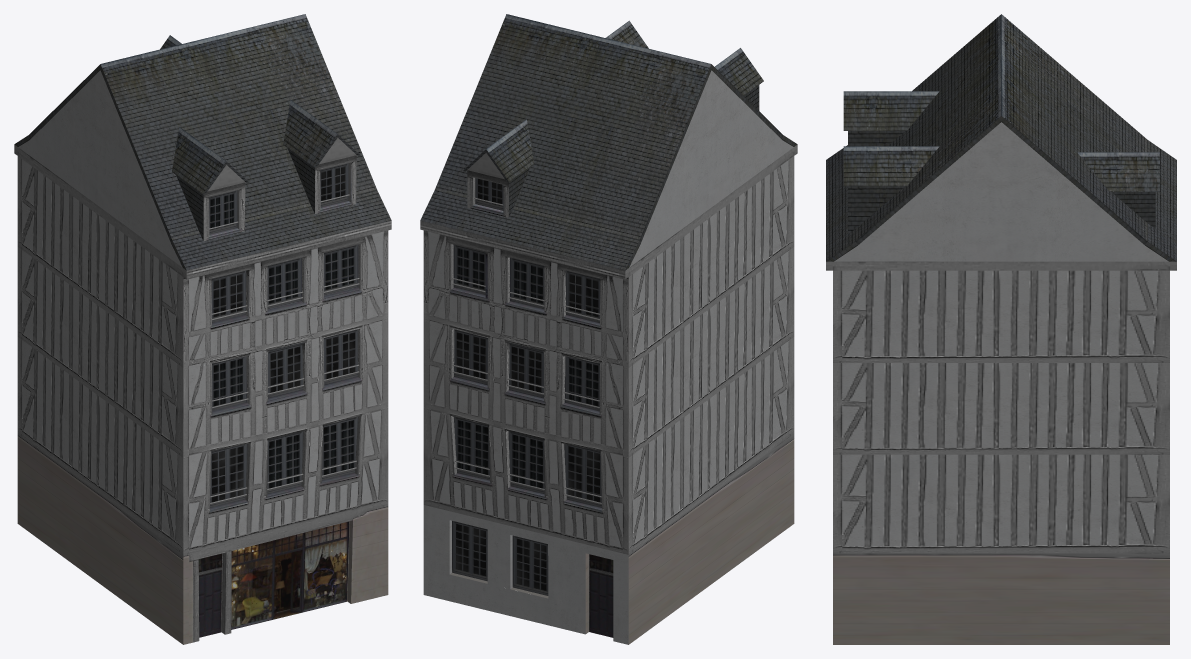
The model's file is rouen_house_1_france.glb.
The picture shows the model from 3 angles, left to right: view 1: azimuth 30°, elevation 25°; view 2: azimuth 150°, elevation 25°; view 3: azimuth 270°, elevation 25°; orthographic projection.
Visible parts, largest first — view 1: 11_11_0; view 2: 11_11_0; view 3: 11_11_0.
Part boxes in pixels (<box>): 11_11_0: <box>14,14,391,644</box>; 11_11_0: <box>420,14,797,644</box>; 11_11_0: <box>826,14,1176,644</box>.
Size of the model in its own units: 7 by 16.97 by 10.2.
Materials: 1 (1 with a texture image).
